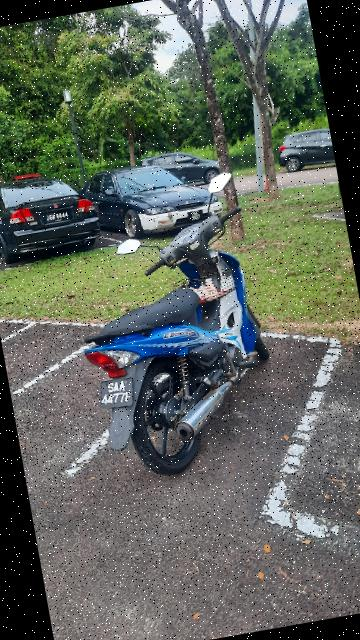License_Plate: (92, 368, 141, 415), (40, 206, 77, 227), (188, 209, 207, 222)
car: (80, 149, 231, 248), (1, 164, 103, 267)
motorcycle: (60, 164, 303, 483)
